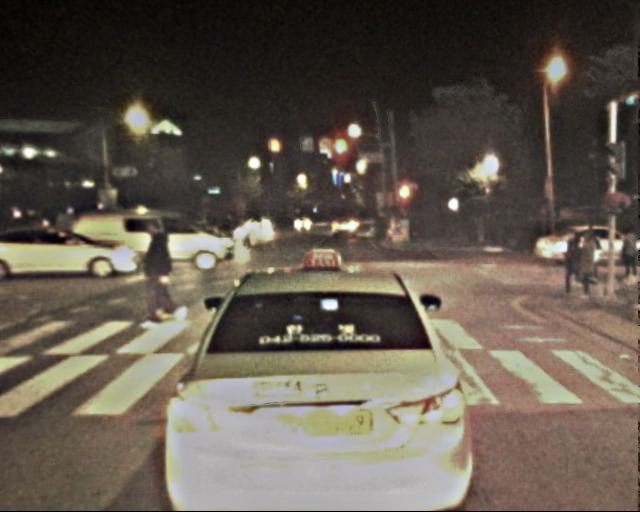person: (135, 214, 182, 329), (577, 230, 606, 301), (559, 230, 588, 301), (619, 229, 640, 286), (594, 232, 615, 283)
